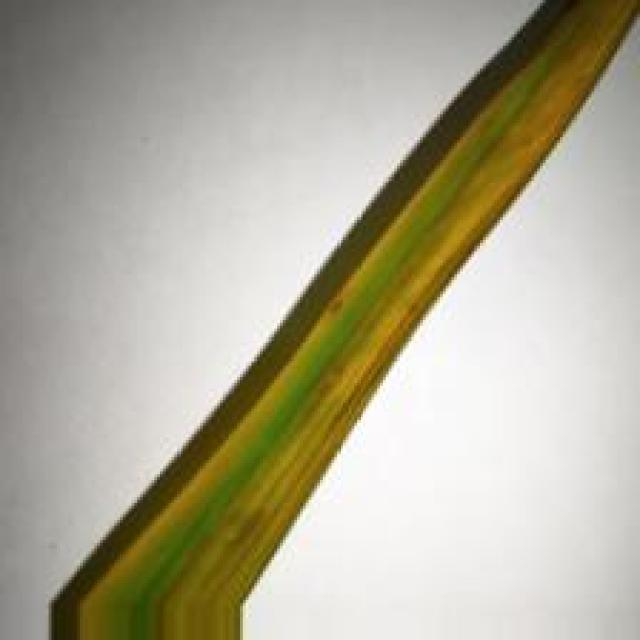Leaf_Scald: (49, 0, 640, 640)
